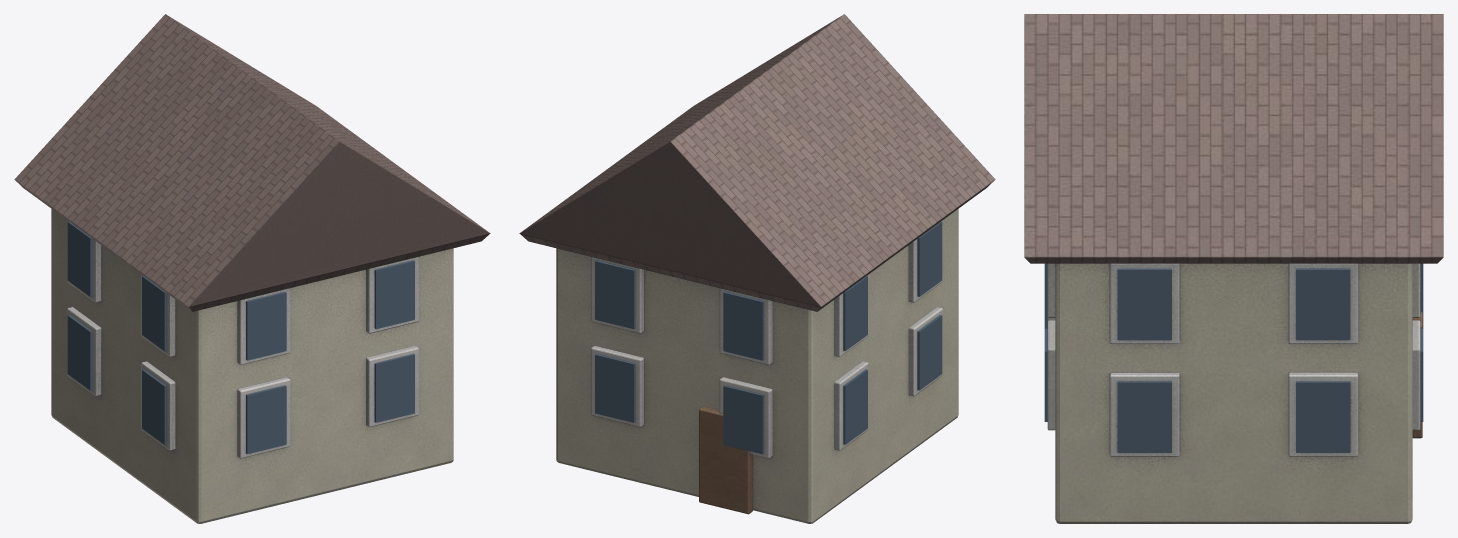
File: reihe_sachbuch.glb
3 renders of one model, left to right at view 1: azimuth 30°, elevation 25°; view 2: azimuth 150°, elevation 25°; view 3: azimuth 270°, elevation 25°, orthographic. The views are drawn at different scales.
Parts seen in each view (by area): view 1: reihe_sachbuch, reihe_sachbuch_details; view 2: reihe_sachbuch, reihe_sachbuch_details; view 3: reihe_sachbuch, reihe_sachbuch_details.
Boxes of the visible parts, box(x1,y1,x2,y2) form: reihe_sachbuch: box(14, 14, 490, 523); reihe_sachbuch_details: box(67, 221, 414, 453); reihe_sachbuch: box(519, 14, 995, 523); reihe_sachbuch_details: box(595, 221, 942, 453); reihe_sachbuch: box(1024, 14, 1443, 523); reihe_sachbuch_details: box(1044, 263, 1423, 452).
Bounding box in the file's own units: 0.54 × 0.62 × 0.54.
2 materials, 1 textured.
